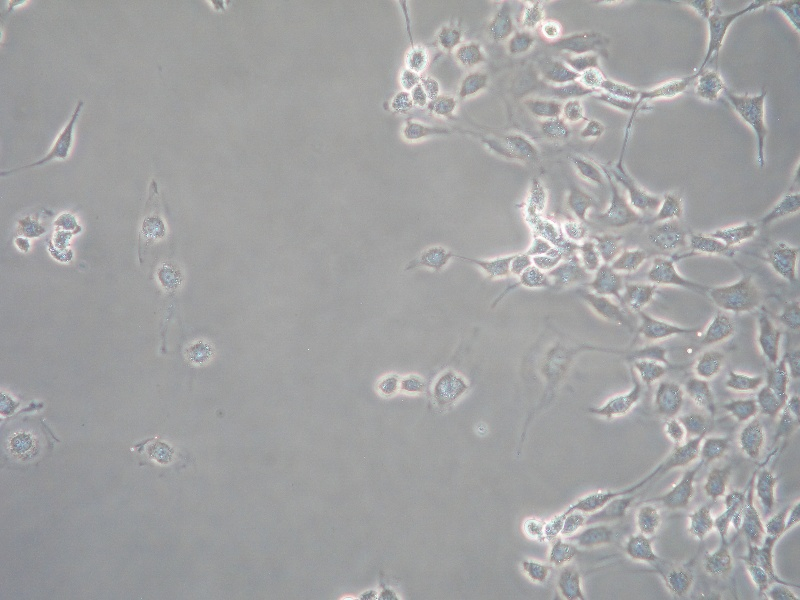cancer: (726, 90, 769, 141), (709, 279, 767, 312), (46, 110, 76, 162), (743, 547, 780, 586), (680, 373, 717, 411), (766, 240, 800, 280), (566, 490, 616, 517), (570, 153, 608, 188), (688, 229, 733, 258), (636, 313, 686, 339), (432, 372, 466, 410), (502, 131, 543, 162), (542, 343, 573, 384), (757, 315, 782, 365), (589, 496, 631, 524), (603, 74, 642, 104), (648, 75, 691, 102), (649, 255, 684, 288), (621, 280, 654, 315), (763, 192, 800, 223), (558, 31, 612, 52), (572, 524, 625, 545), (686, 504, 715, 542), (586, 296, 624, 325), (522, 176, 548, 218), (700, 316, 735, 347), (654, 380, 682, 418), (566, 187, 597, 221), (695, 69, 726, 103), (488, 5, 515, 44), (741, 506, 766, 548), (637, 499, 663, 539), (603, 390, 638, 419), (526, 211, 562, 239), (707, 11, 732, 51), (481, 135, 519, 161), (541, 52, 575, 81), (593, 264, 622, 297), (604, 197, 637, 226), (756, 469, 780, 508), (712, 225, 761, 244), (479, 255, 516, 280), (6, 430, 39, 458), (646, 230, 690, 251), (664, 443, 698, 470), (665, 567, 695, 597), (757, 384, 784, 417), (632, 358, 665, 385), (690, 505, 714, 542), (714, 505, 740, 539), (524, 96, 564, 118), (666, 478, 696, 507), (145, 439, 176, 467), (457, 70, 488, 98), (694, 350, 723, 379), (184, 340, 215, 367), (741, 423, 764, 459), (154, 264, 183, 292), (655, 193, 684, 221), (629, 342, 671, 361), (626, 535, 655, 562), (725, 371, 764, 391), (420, 246, 451, 271), (567, 53, 610, 71), (140, 215, 168, 242), (436, 25, 463, 53), (519, 264, 549, 289), (766, 508, 788, 542), (509, 29, 536, 56), (458, 41, 486, 67), (778, 1, 800, 34), (402, 121, 438, 141), (53, 210, 81, 234), (706, 547, 734, 571), (596, 232, 619, 261), (559, 261, 588, 284), (521, 560, 551, 582), (729, 400, 759, 422), (407, 45, 429, 75), (15, 215, 46, 236), (561, 568, 581, 600), (577, 68, 606, 90), (521, 4, 546, 29), (706, 468, 727, 497), (700, 439, 730, 459), (539, 119, 569, 139), (376, 372, 398, 399), (550, 540, 575, 563), (391, 92, 416, 115), (430, 96, 456, 118), (400, 374, 424, 397), (418, 76, 440, 101), (784, 346, 800, 380), (726, 491, 744, 521), (765, 583, 798, 599), (399, 68, 421, 92), (512, 251, 533, 276), (531, 254, 563, 270), (1, 389, 18, 419), (544, 513, 566, 536), (687, 1, 711, 22), (561, 98, 585, 119), (577, 119, 603, 138), (51, 231, 73, 253), (561, 513, 586, 532), (48, 249, 77, 265), (666, 419, 685, 443), (530, 234, 552, 254), (12, 233, 31, 256), (786, 393, 800, 423), (542, 18, 562, 39), (564, 223, 586, 242), (684, 414, 707, 432), (786, 500, 800, 528), (22, 399, 46, 414), (397, 1, 411, 26), (207, 1, 233, 14), (382, 586, 400, 600), (526, 519, 541, 535), (359, 589, 376, 600), (7, 1, 24, 11), (474, 422, 485, 433), (338, 594, 354, 600)
